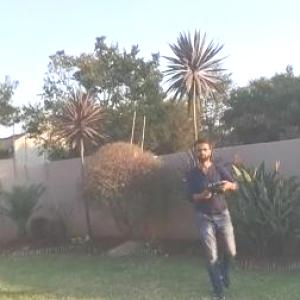follow: (193, 137, 261, 299)
